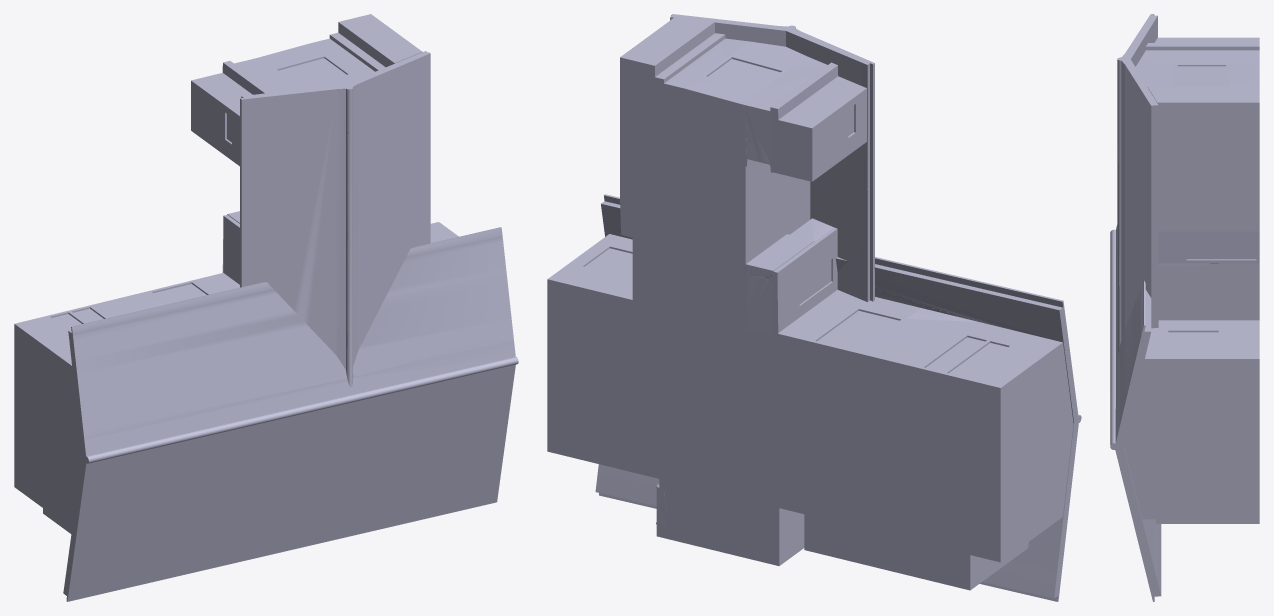
Rendered from 7house.glb.
The picture shows the model from 3 angles, left to right: view 1: azimuth 30°, elevation 25°; view 2: azimuth 150°, elevation 25°; view 3: azimuth 270°, elevation 25°; orthographic projection. The views are drawn at different scales.
Visible parts, largest first — view 1: house; view 2: house; view 3: house.
Part boxes in pixels (<box>): house: <box>14,14,518,601</box>; house: <box>547,14,1081,601</box>; house: <box>1110,14,1259,601</box>.
Size of the model in its own units: 69.72 by 72.37 by 21.12.
